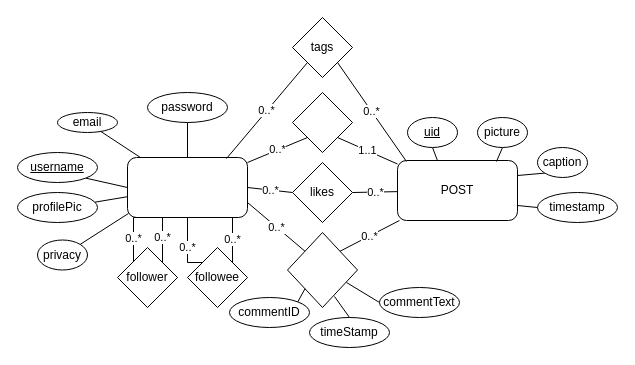
The diagram is 635 pixels wide and 365 high, and some of its shapes have lost their labels. The box of each missing label's shape, as (x1, y1, x2, y2) in pixels:
comments: (286, 232, 358, 308)
owns: (292, 92, 352, 152)
USER: (126, 156, 248, 218)
